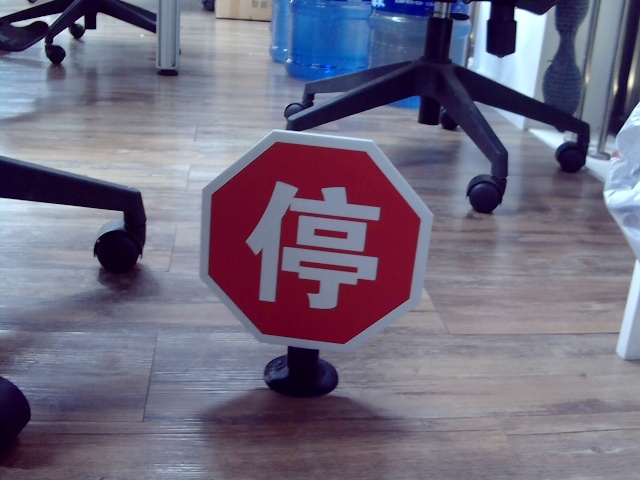stop: (244, 175, 377, 314)
